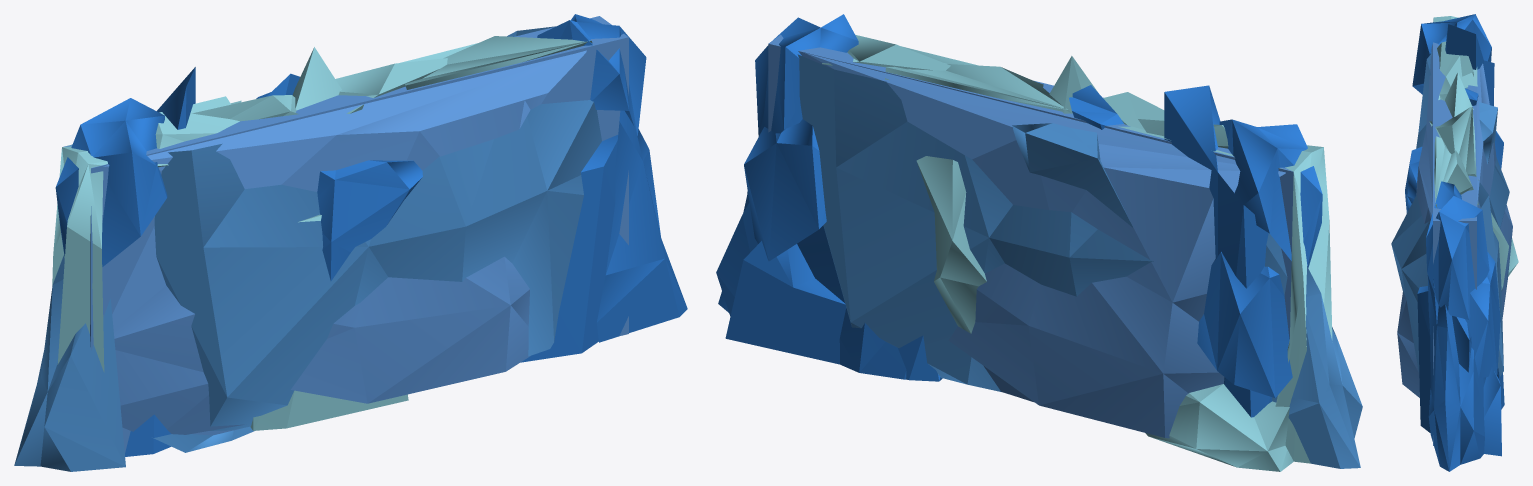
File: Wall_Skill_LVL2.fbx
3 views of the same model, side by side, from view 1: azimuth 30°, elevation 25°; view 2: azimuth 150°, elevation 25°; view 3: azimuth 270°, elevation 25° (orthographic). The views are drawn at different scales.
Visible parts, largest first — view 1: Wall_Skill; view 2: Wall_Skill; view 3: Wall_Skill.
Part boxes in pixels (x1,y1,x2,y2): Wall_Skill: (14, 14, 687, 471); Wall_Skill: (716, 14, 1362, 471); Wall_Skill: (1391, 14, 1518, 471).
Size of the model in its own units: 5.53 by 2.76 by 1.21.
